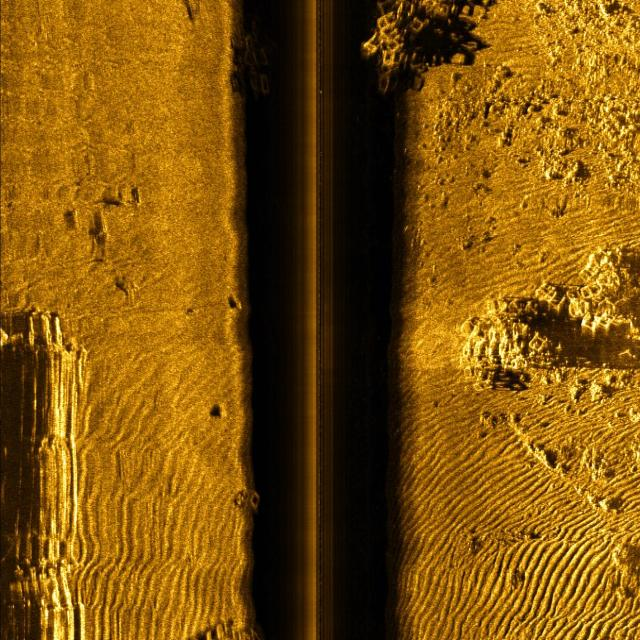artificial reef: (366, 0, 464, 105), (232, 18, 288, 114)
